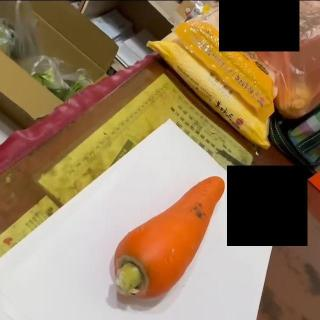carrot: (112, 175, 226, 299)
